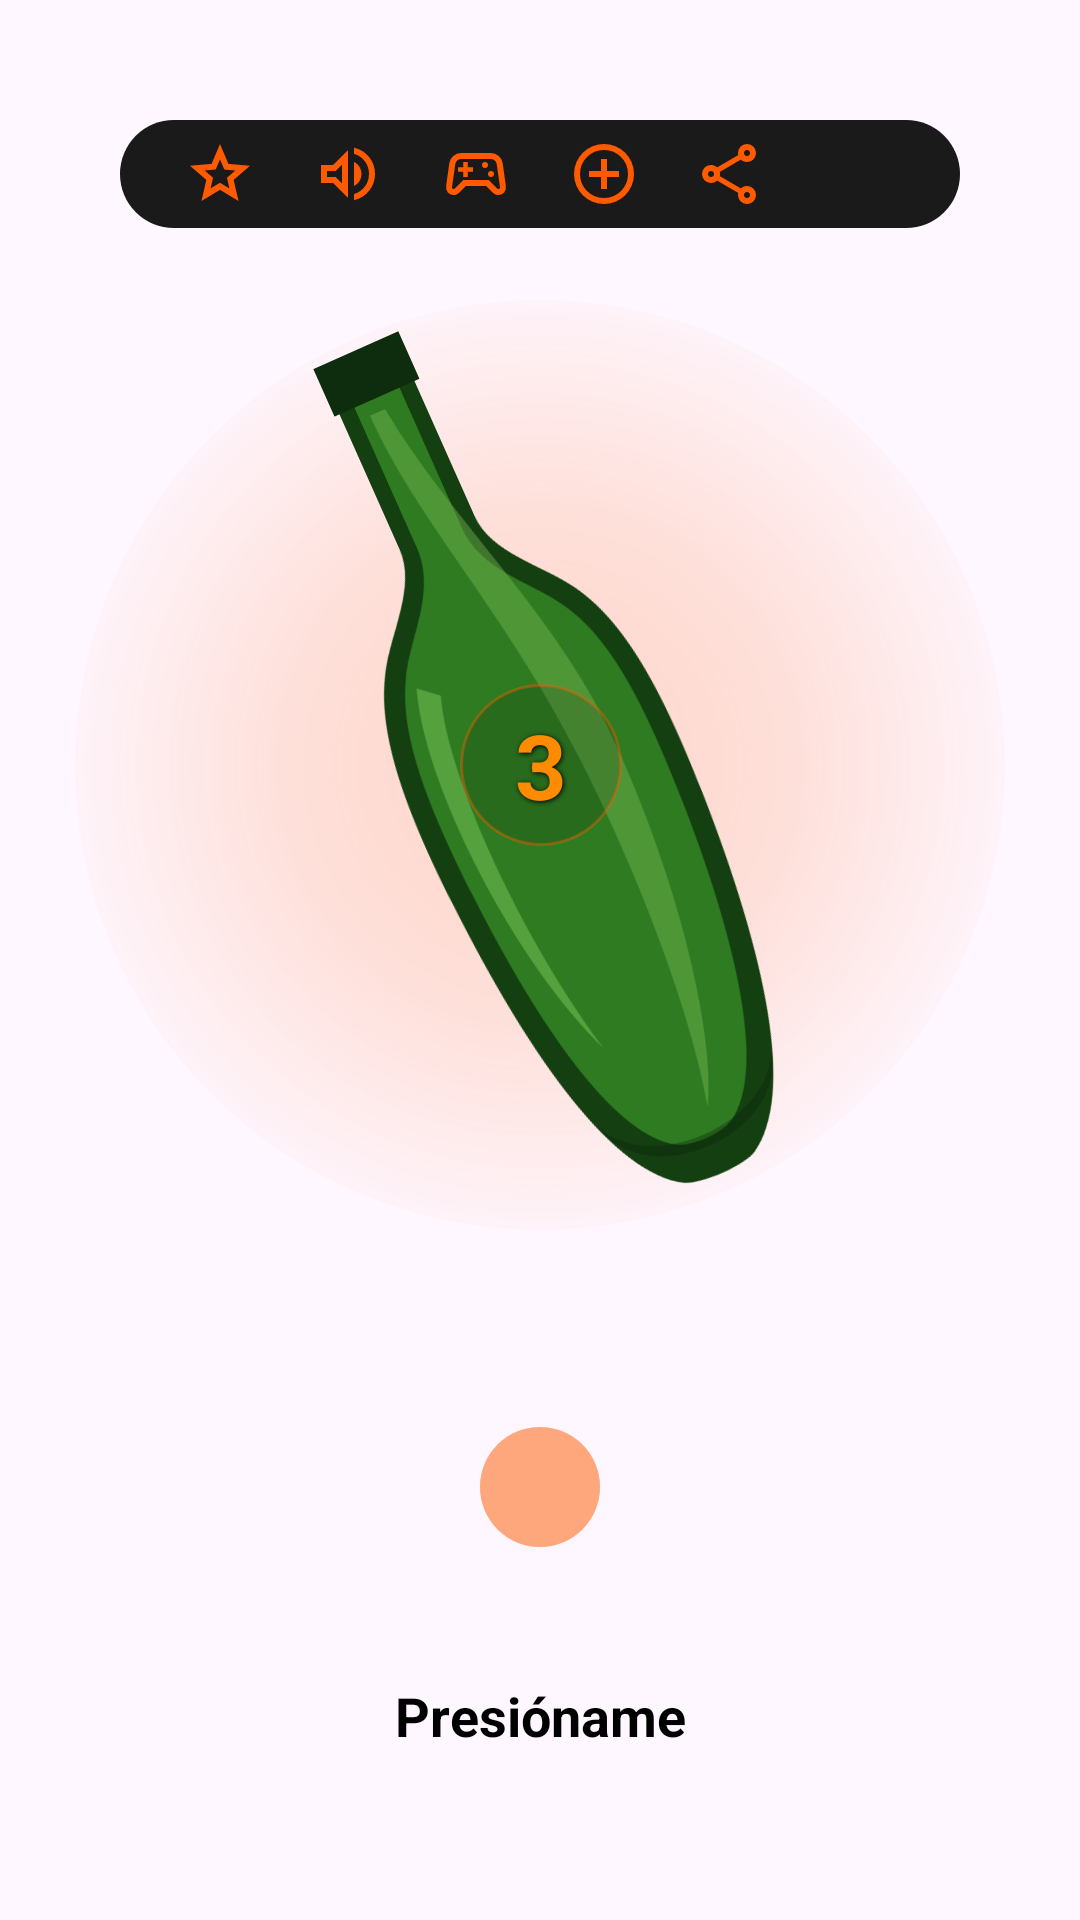

Named icons in this screenshot (1080×1920) and their bounding boxes, (x1, y1, x2, y2):
Audio: (321, 147, 375, 200)
Calificar: (190, 144, 250, 201)
Compartir: (702, 144, 756, 204)
